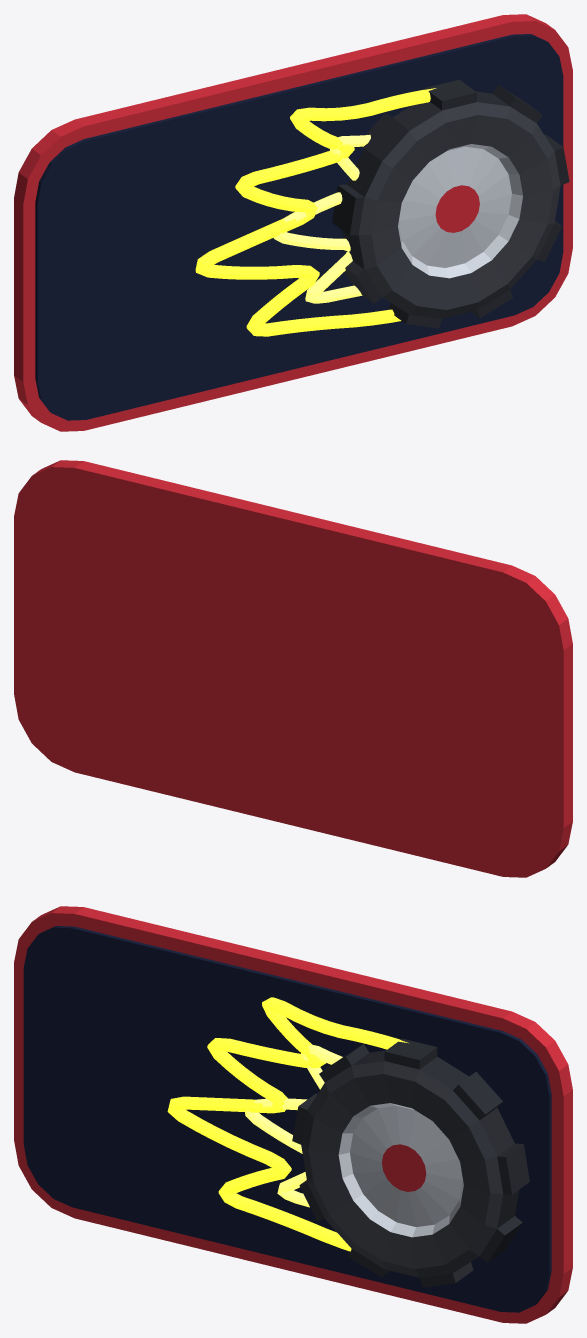
The model's file is Sign_FlameTire.fbx.
3 renders of one model, top to bottom at view 1: azimuth 30°, elevation 25°; view 2: azimuth 150°, elevation 25°; view 3: azimuth 330°, elevation 25°, orthographic.
Visible parts, largest first — view 1: Sign_FlameTire, Neon_Orange, Neon_Yellow; view 2: Sign_FlameTire; view 3: Sign_FlameTire, Neon_Orange, Neon_Yellow.
Part boxes in pixels (x1,y1,x2,y2): Sign_FlameTire: (14, 14, 572, 431); Neon_Orange: (195, 88, 436, 336); Neon_Yellow: (274, 134, 370, 303); Sign_FlameTire: (14, 460, 572, 877); Sign_FlameTire: (14, 906, 572, 1323); Neon_Orange: (167, 997, 408, 1251); Neon_Yellow: (245, 1044, 342, 1207).
Bounding box in the file's own units: 13.6 × 7.2 × 1.55.
3 materials, 1 textured.
